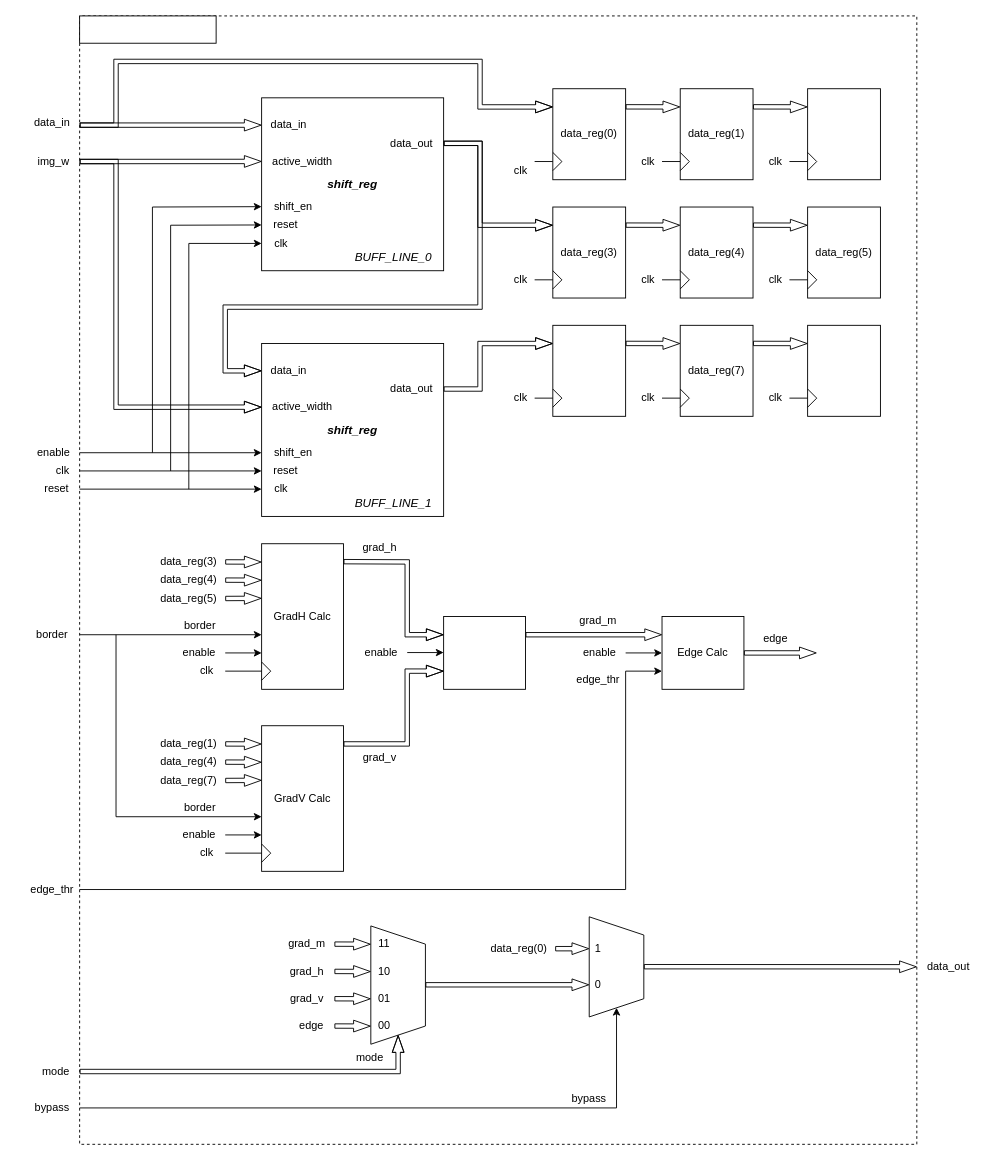
This 996x1161 diagram has some shape labels left out. The shapes that lost their labels are listed below. From the top down, each one's centre as x and y in pixels, then its label:
(x=147, y=29): acc_edge_detection
(x=843, y=134): data_reg(2)
(x=589, y=370): data_reg(6)
(x=843, y=370): data_reg(8)
(x=484, y=652): GradM Calc
